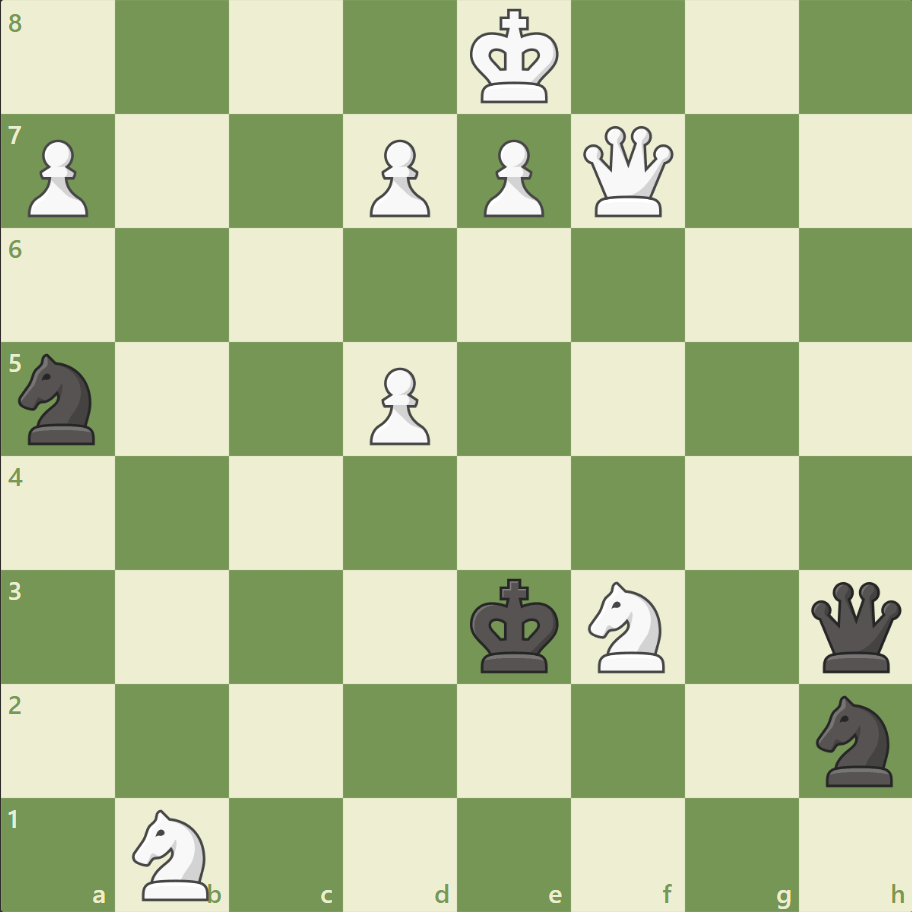K: (465, 4, 565, 112)
N: (124, 802, 222, 904), (579, 575, 676, 677)
P: (20, 132, 95, 223), (474, 132, 549, 223), (361, 132, 435, 223), (361, 359, 435, 450)
Q: (578, 122, 677, 222)
k: (465, 571, 565, 679)
n: (806, 688, 903, 791), (11, 348, 108, 450)
q: (805, 576, 904, 676)
